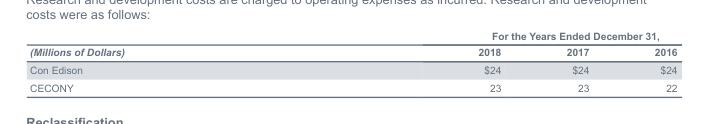table: (29, 29, 676, 93)
table column: (29, 29, 300, 93), (300, 29, 533, 93), (533, 29, 621, 93), (621, 29, 676, 93)
table column header: (29, 29, 676, 60)
table row: (29, 60, 676, 78), (29, 43, 676, 60), (29, 78, 676, 93), (29, 29, 676, 43)
table spanning cell: (29, 29, 300, 60), (300, 29, 676, 43)
